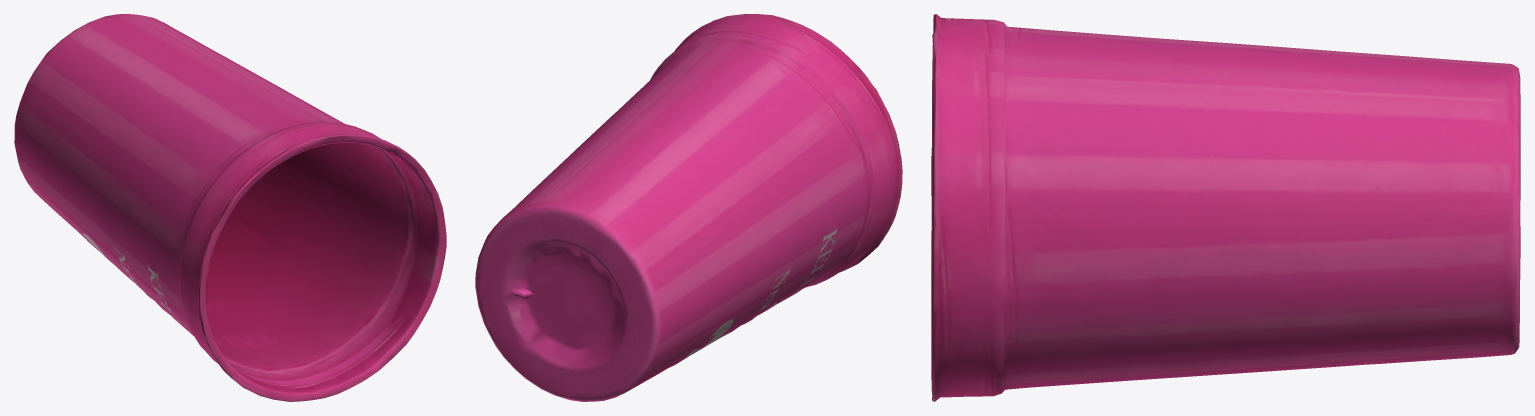
The picture shows the model from 3 angles, left to right: view 1: azimuth 30°, elevation 25°; view 2: azimuth 150°, elevation 25°; view 3: azimuth 270°, elevation 25°; orthographic projection. The views are drawn at different scales.
Bounding box in the file's own units: 0.0911 × 0.0911 × 0.1383.
1 material, 1 textured.
